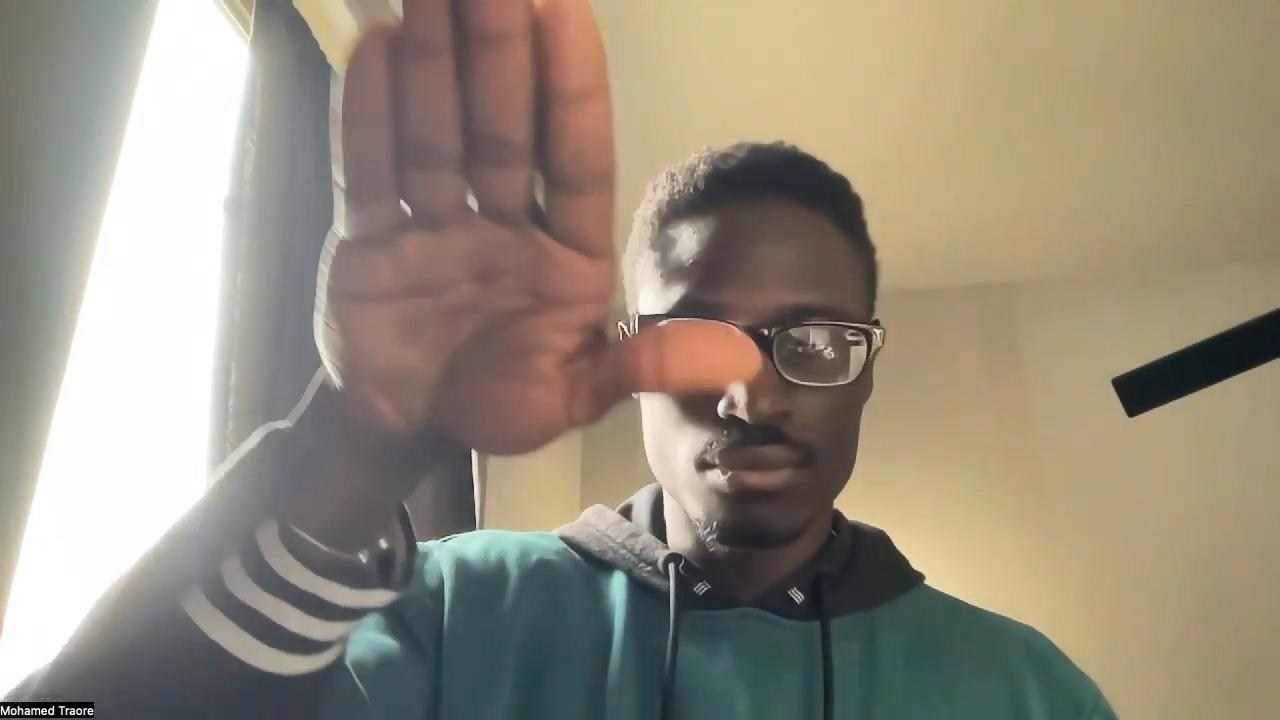Paper: (312, 0, 763, 458)
